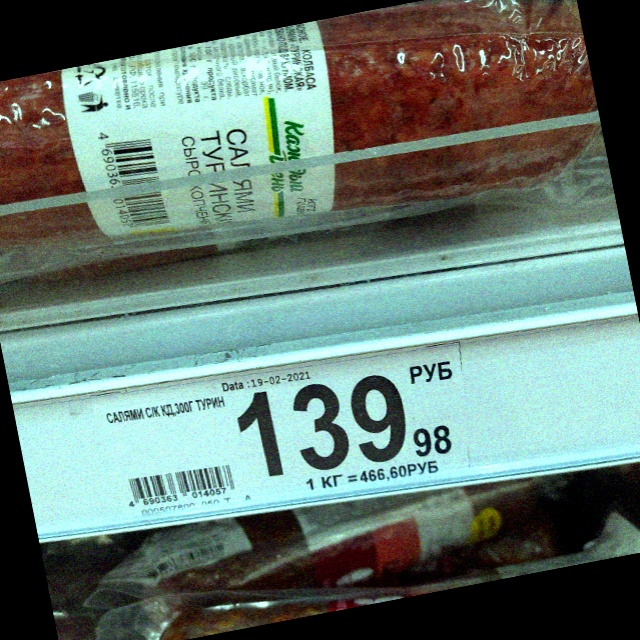barcode: (123, 464, 236, 509)
name: (103, 393, 227, 429)
price: (234, 373, 454, 478)
price_tag: (94, 340, 471, 522)
